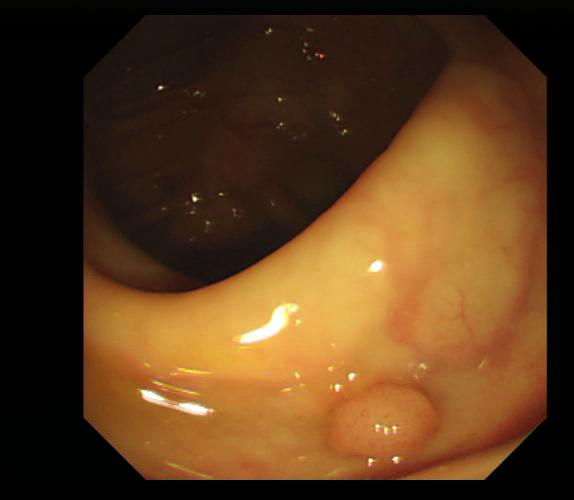polyp: (325, 382, 438, 461)
